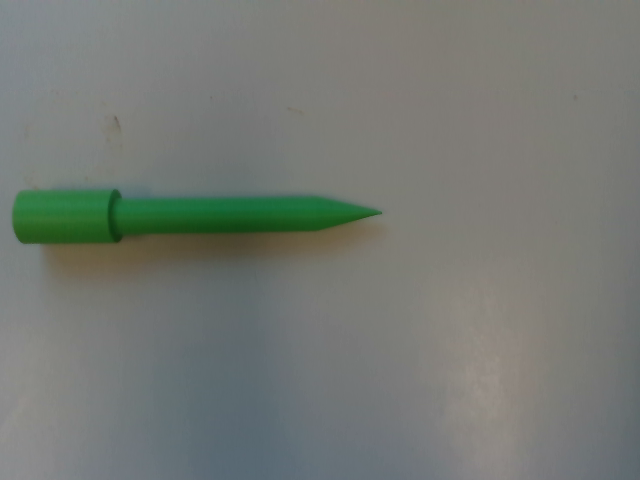Probe: (8, 185, 392, 248)
